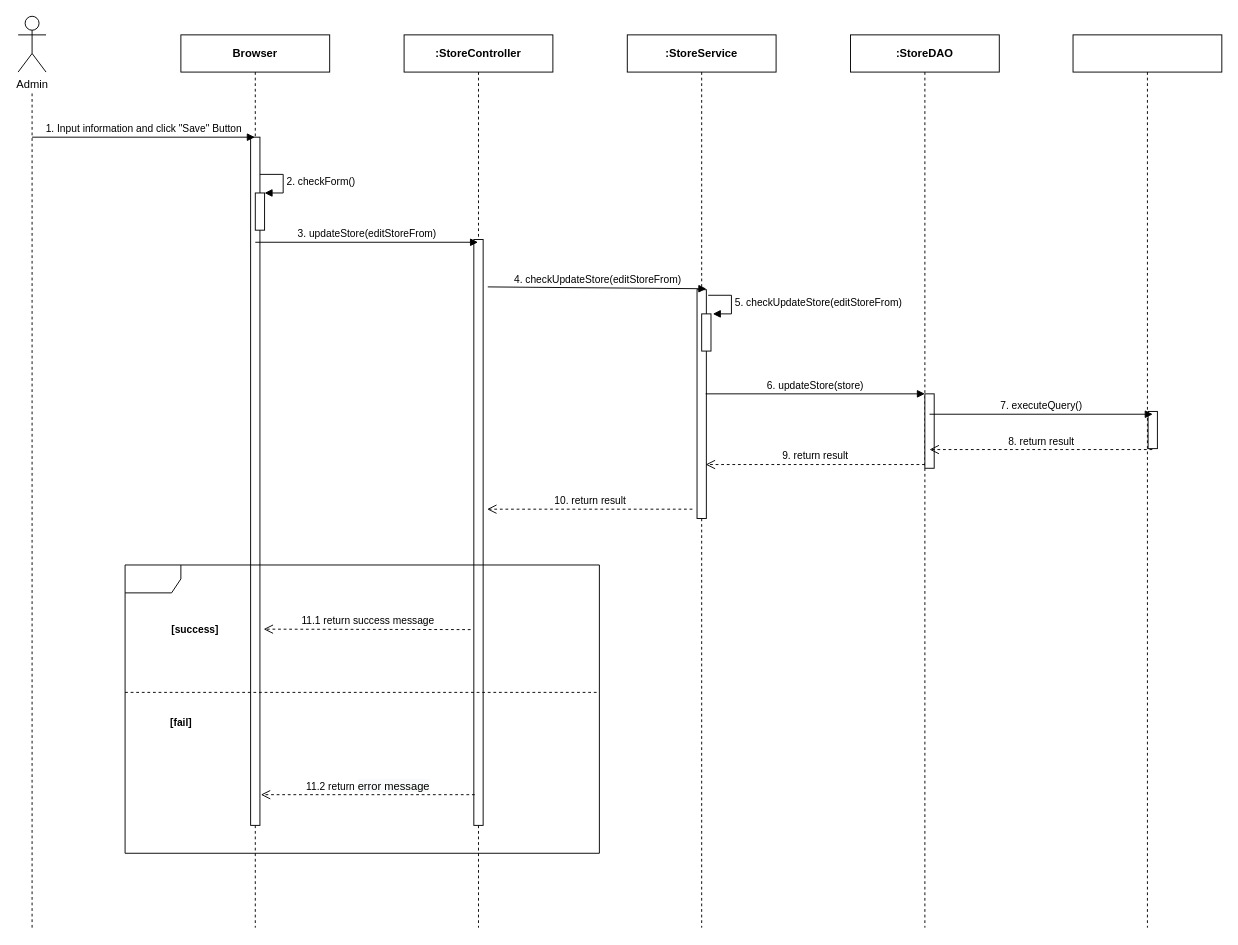
The diagram is 1238 pixels wide and 945 high, and some of its shapes have lost their labels. The shapes that lost their labels are listed below. From the top down, each one's box as (x1, y1, x2, y2) in pixels, then its label:
(1072, 34, 1222, 928): Database
(124, 564, 599, 853): alt
